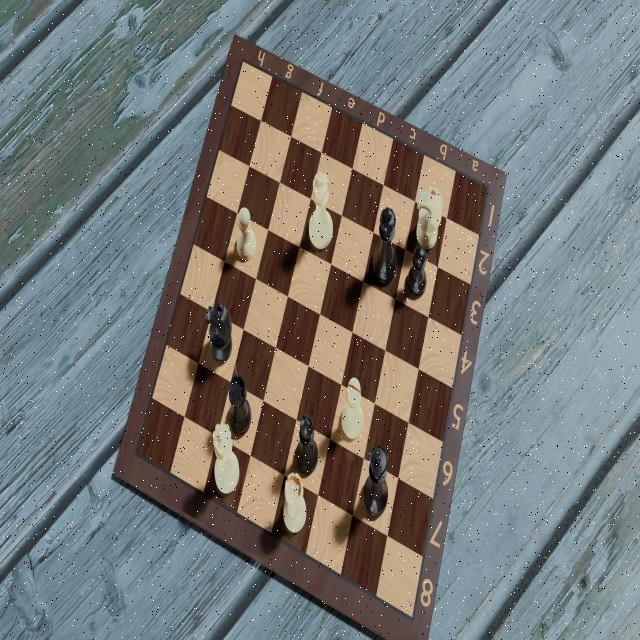black-bishop: (294, 413, 317, 483)
black-king: (370, 203, 398, 290)
black-knight: (202, 299, 234, 365)
black-pawn: (405, 244, 427, 301)
black-queen: (362, 446, 388, 526)
black-rook: (226, 373, 254, 439)
white-bishop: (338, 373, 365, 443)
white-king: (306, 171, 333, 248)
white-knight: (413, 184, 444, 252)
white-pawn: (235, 205, 257, 263)
white-queen: (210, 419, 239, 496)
white-rook: (280, 471, 307, 539)
